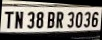character: (4, 11, 14, 29), (14, 11, 24, 29), (26, 11, 35, 29), (56, 11, 64, 29), (36, 11, 44, 28), (47, 11, 55, 28), (75, 11, 83, 28), (83, 11, 91, 27), (91, 11, 99, 27), (67, 11, 74, 28)
